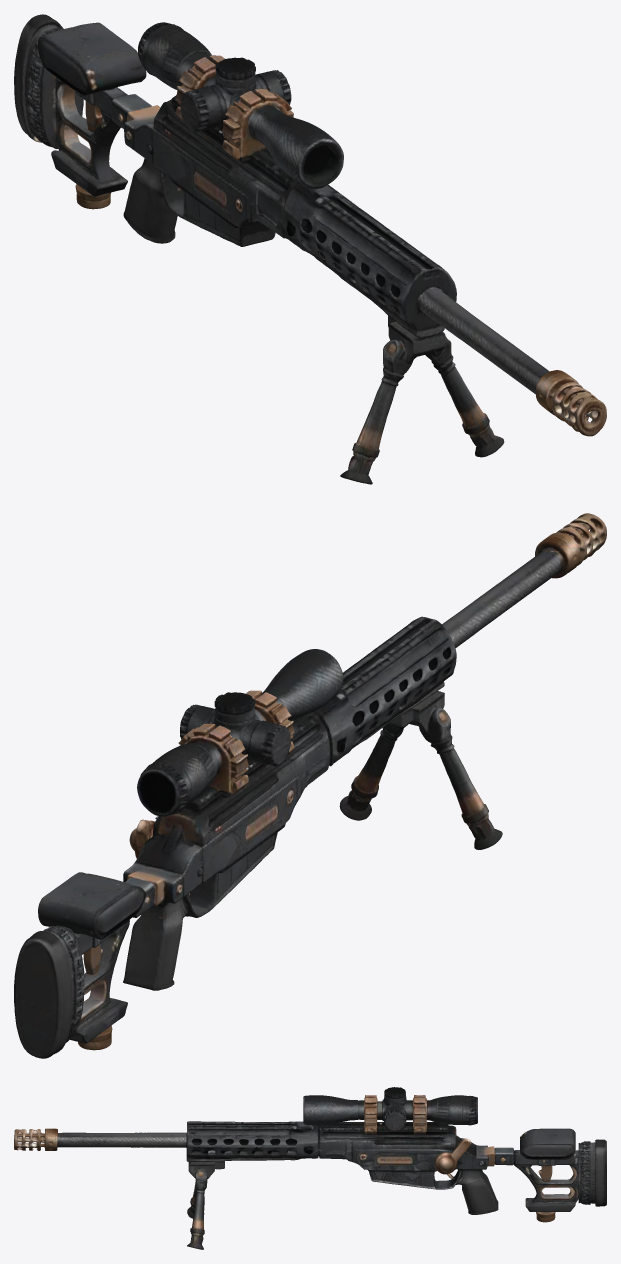
Rendered from Hi3D_Realistic Tactical Sniper Rifle 3D Model with Geometric Camo_allparts_20260825_213736-optimized.glb.
3 views of the same model, one above another, from view 1: azimuth 30°, elevation 25°; view 2: azimuth 150°, elevation 25°; view 3: azimuth 270°, elevation 25° (orthographic). The views are drawn at different scales.
Parts seen in each view (by area): view 1: tmphewktf_gobj; view 2: tmphewktf_gobj; view 3: tmphewktf_gobj.
Boxes of the visible parts, left/top/right/bottom form: tmphewktf_gobj: left=14, top=14, right=606, bottom=484; tmphewktf_gobj: left=14, top=513, right=606, bottom=1058; tmphewktf_gobj: left=14, top=1087, right=606, bottom=1249.
Size of the model in its own units: 0.1643 by 0.2665 by 1.
1 material, 1 textured.
